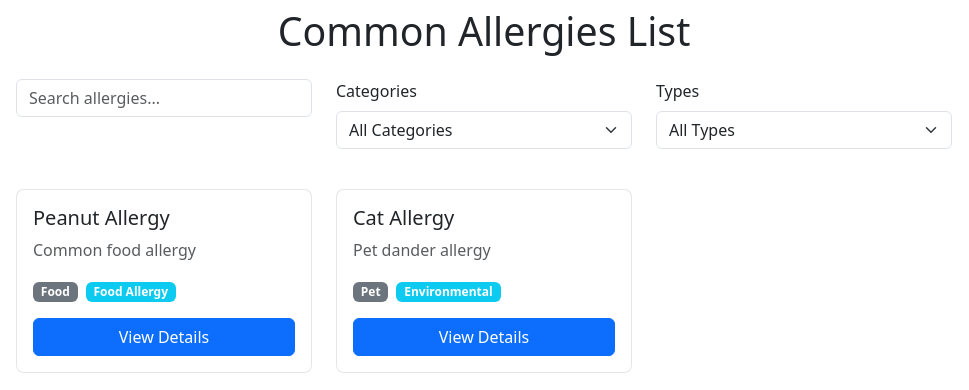
AllergyList › clicking type badge updates type filter
Click the text with test id "type-badge-Environmental": (448, 292) [396, 282, 500, 302]
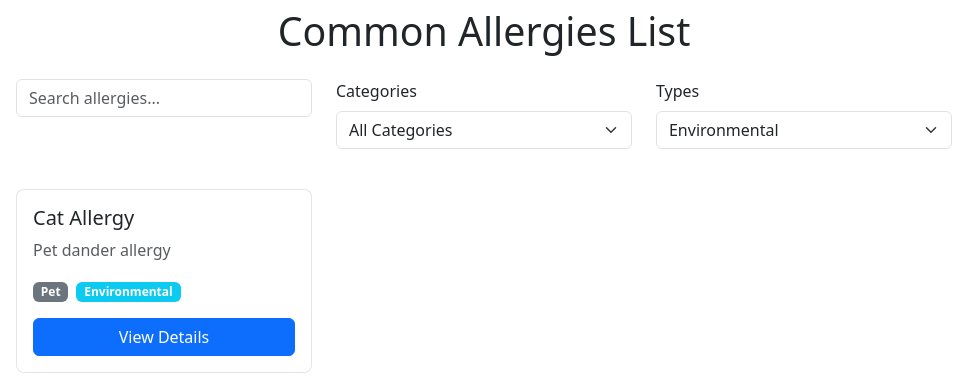
Check: the text "Cat Allergy" is shown, box [33, 204, 134, 231]
Check: the text "Peanut Allergy" is gone
